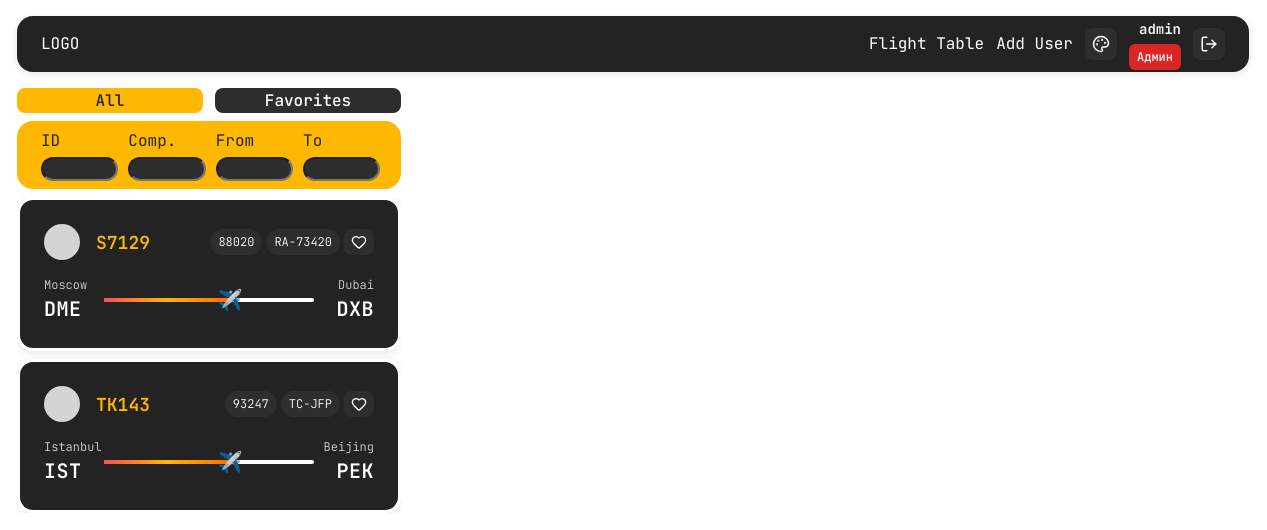
it: фильтр по городу отправления работает
Expected: the text "Moscow" is shown, [44,276,87,294]
# Вводим фильтр по городу отправления
Step 1. Type "Moscow" into the field labelled "From" → (254, 169), box [216,157,293,181]
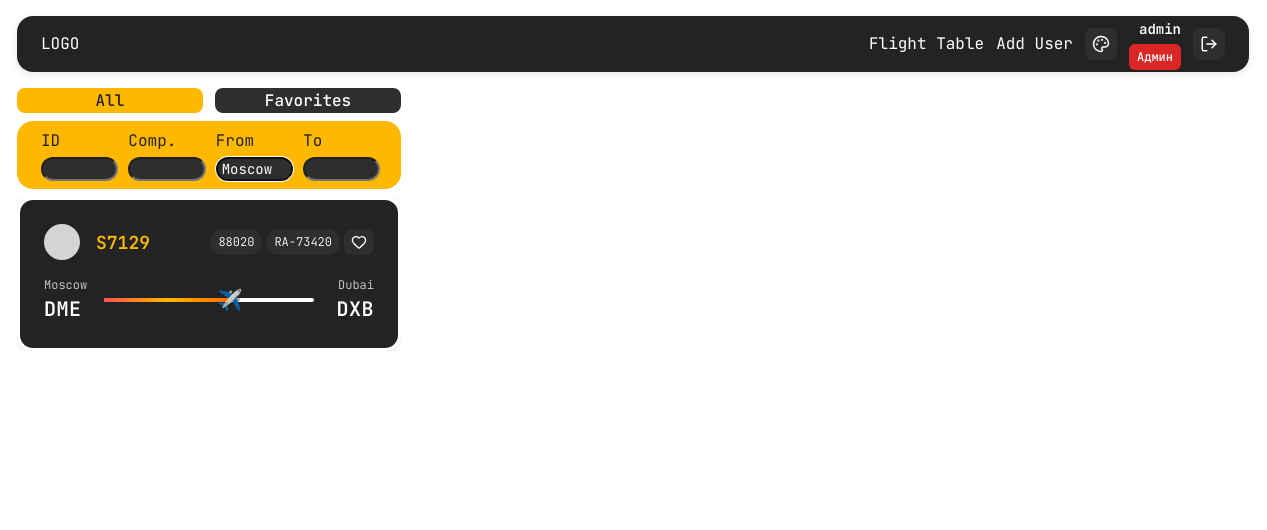
Expected: the text "Moscow" is shown, [44,276,87,294]
Expected: the text "Istanbul" is gone
